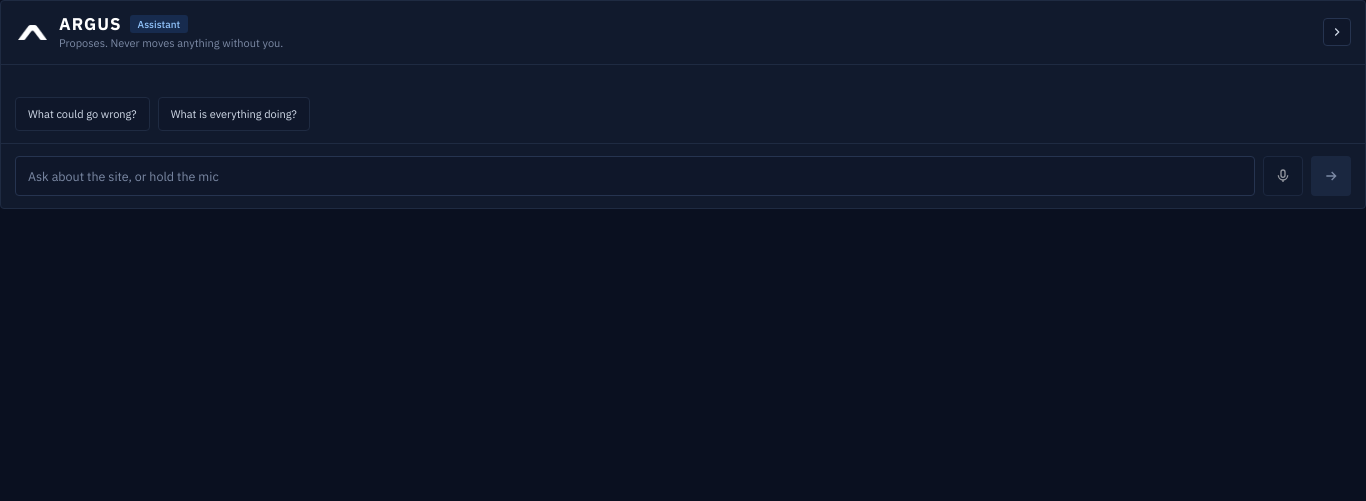
Test: an order typed to the assistant › shows why, when the world model refuses it at the moment of sending
Type "patrol the north fence with Tessy" into the field.
click(635, 176); type("patrol the north fence with Tessy")  # box [15,156,1255,196]
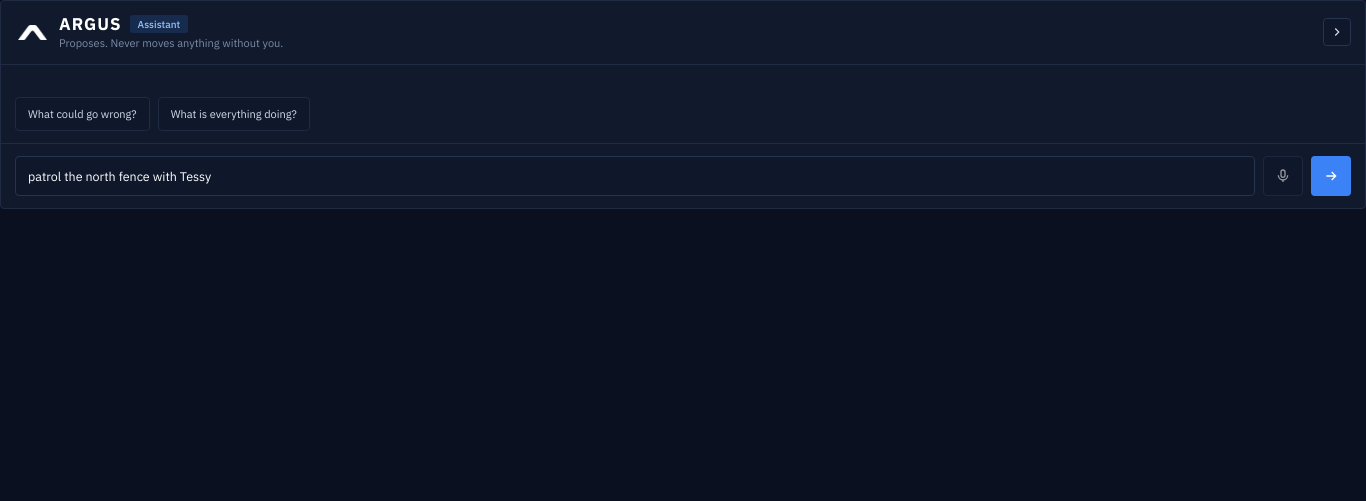
Submit the form, box [1,143,1365,208]
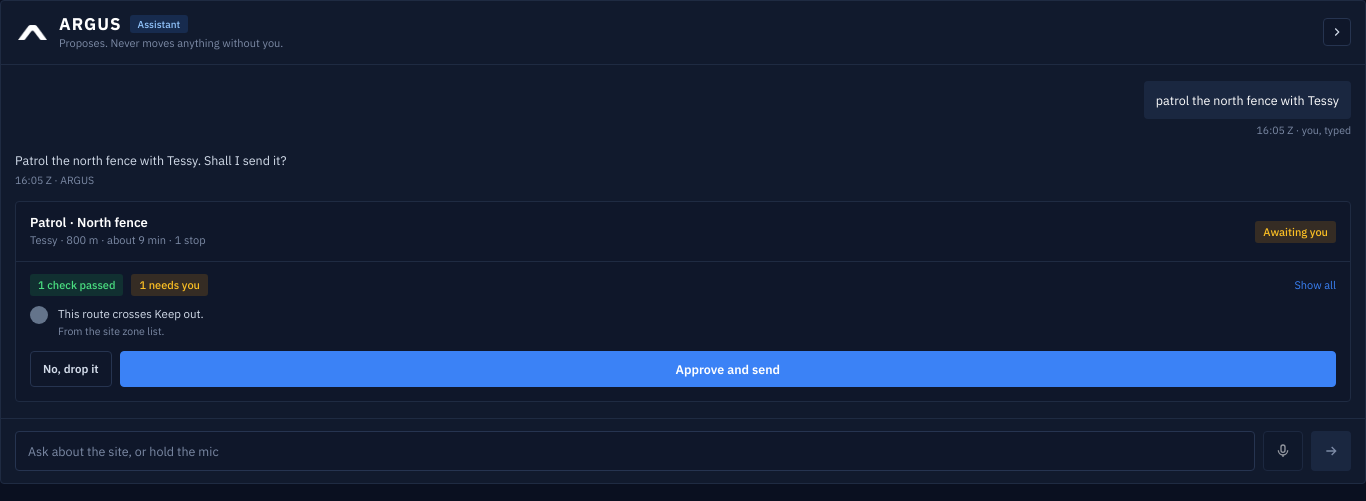
Expected: the button "Approve and send" is shown
Click the button "Approve and send".
click(728, 369)  # box [120,351,1336,387]
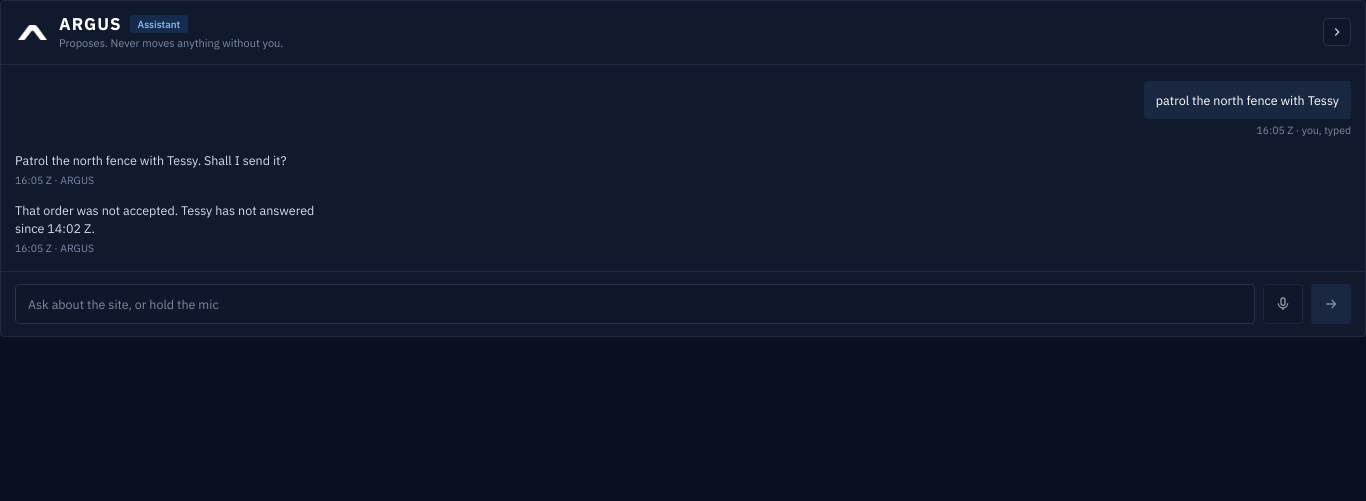
Expected: the text "That order was not accepted. Tessy has not answered since 14:02 Z." is shown, [15,201,335,238]
Expected: the button "Approve and send" is gone
